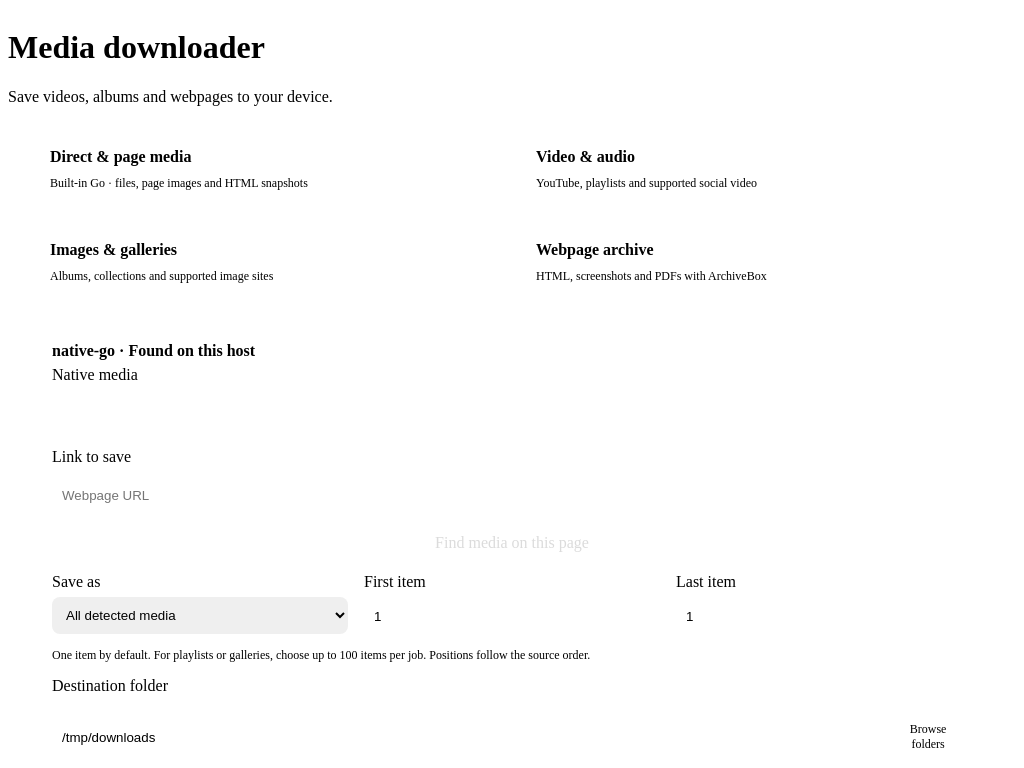
Test: Media downloader › aborts an inspected URL when edited and ignores its late preview
Expected: the field showing "/tmp/downloads" is shown, [52,720,872,755]
Type "https://example.org/first" into the field labelled "Link to save" at (522, 496), box [52,478,992,513]
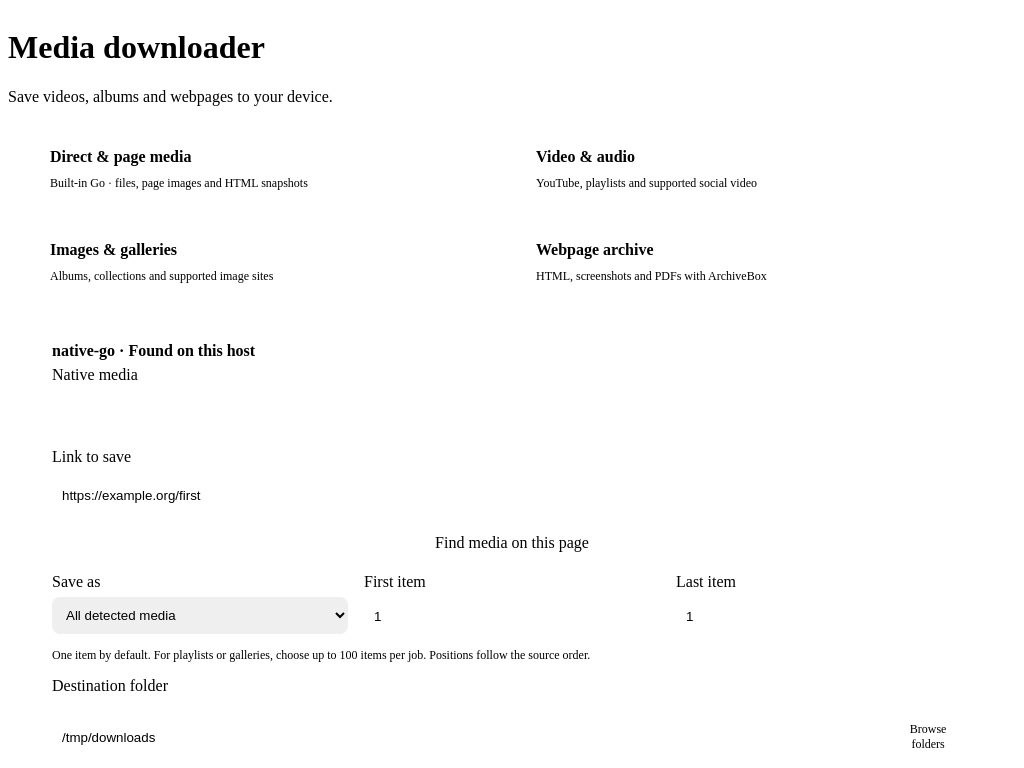
Click the button "Find media on this page" at (512, 543), box [52,525,972,561]
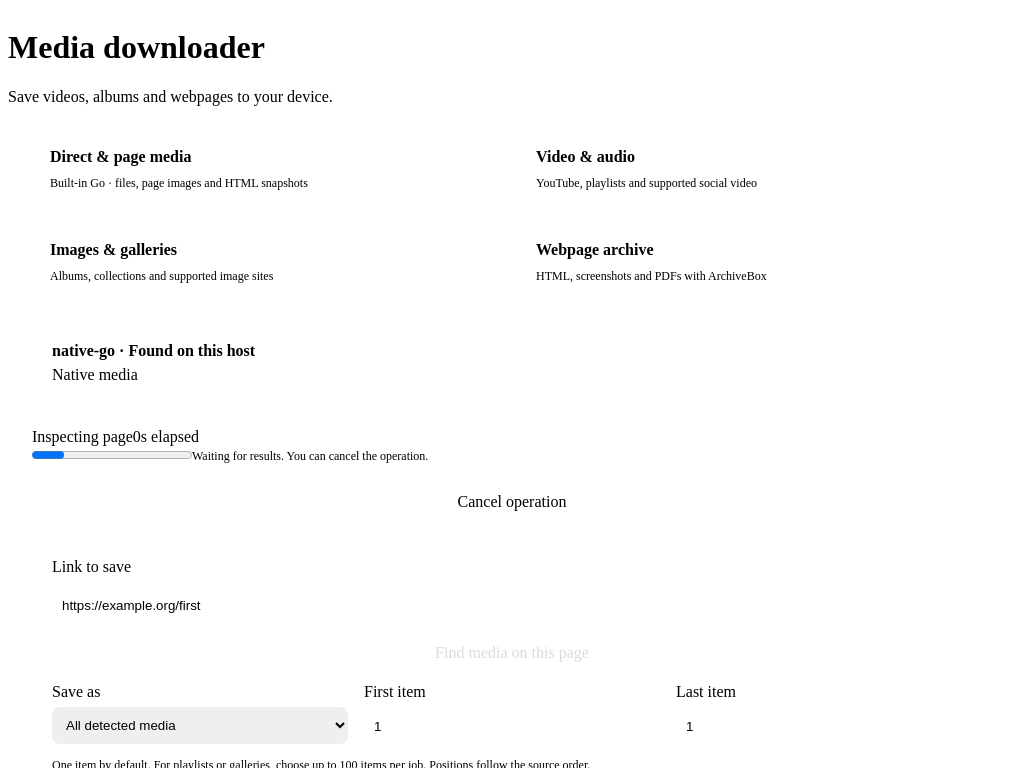
Replace the text in the field labelled "Link to save" with "https://example.org/second" at (522, 606), box [52,588,992,623]
(page scrolled)
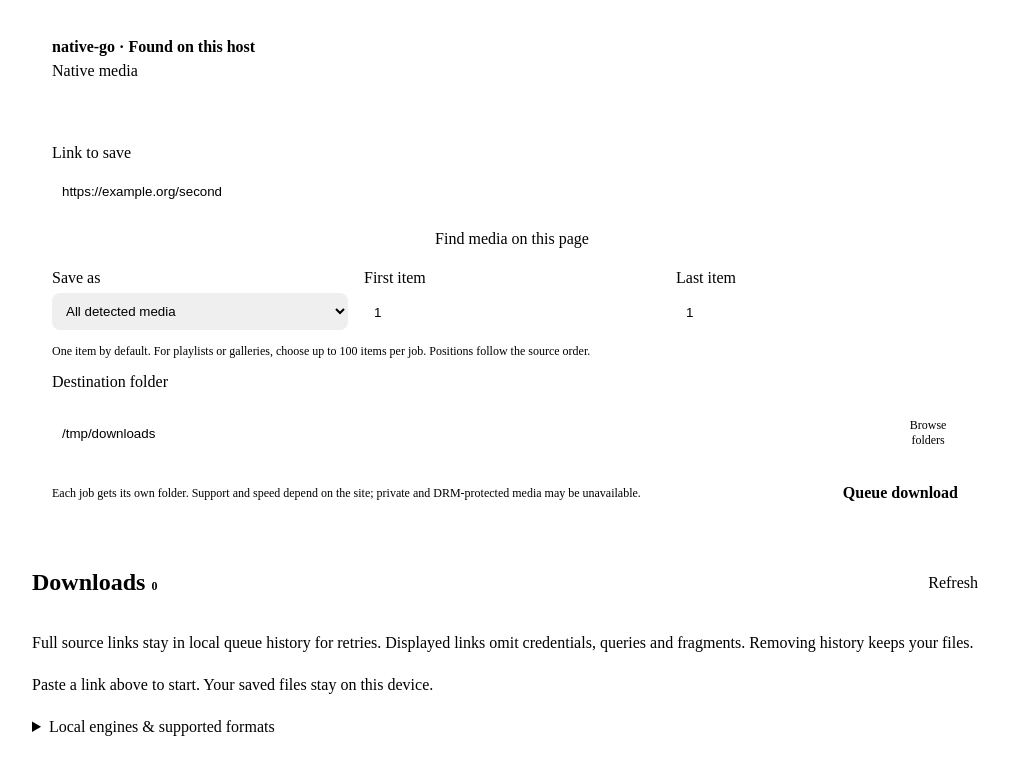
Expected: the button "Queue download" is enabled, [829,475,972,511]
